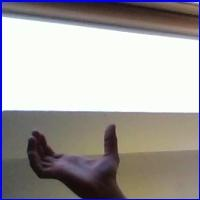space: (22, 121, 134, 193)
